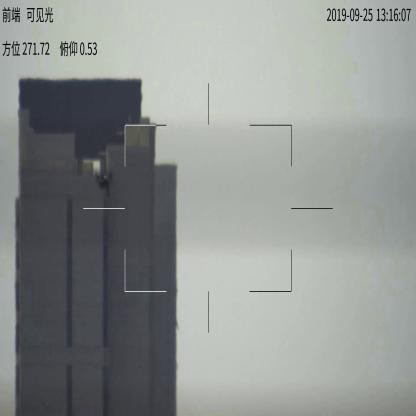uav: (92, 167, 115, 194)
